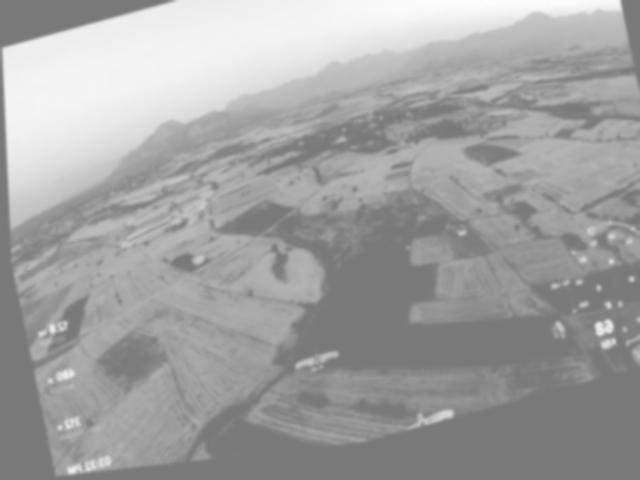hedef: (284, 348, 346, 393)
